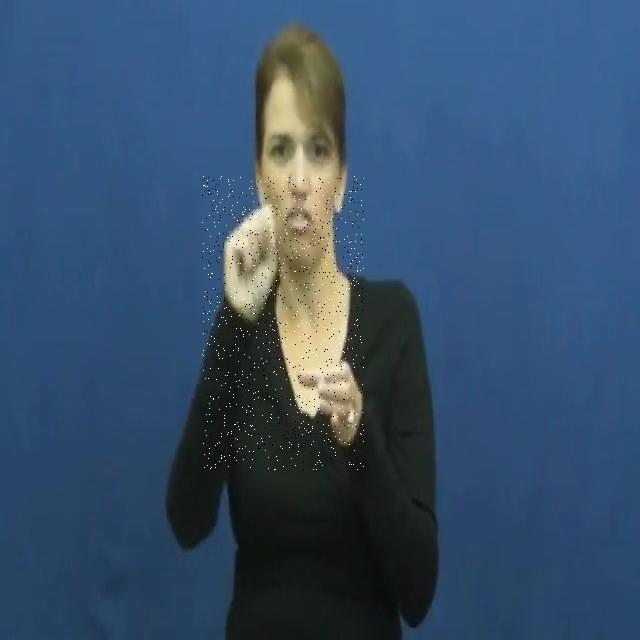straw: (202, 176, 364, 470)
